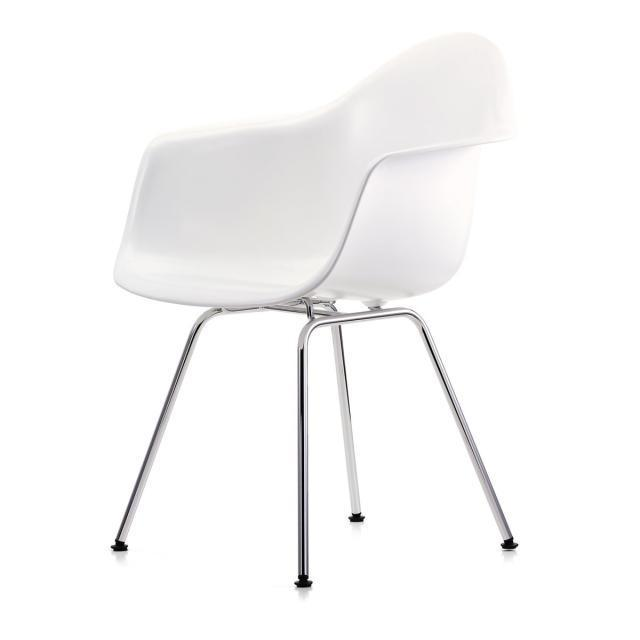chair: (107, 27, 523, 590)
